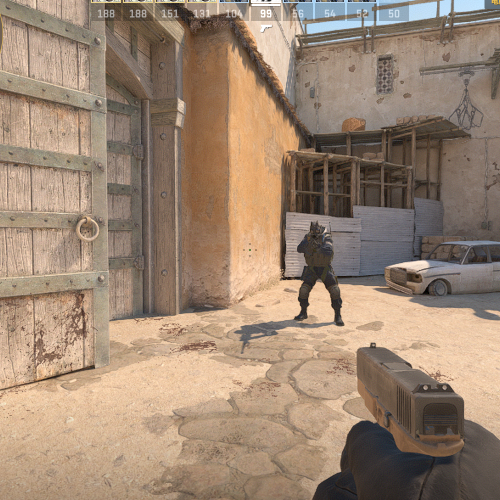ct_body: (295, 220, 344, 327)
ct_head: (308, 220, 323, 237)
